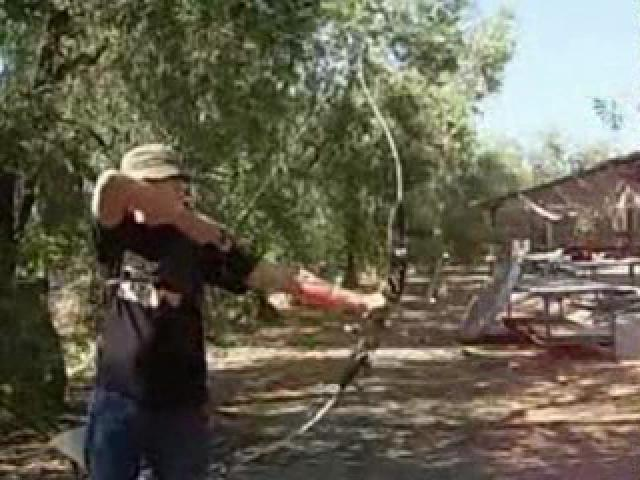I: (62, 123, 396, 480)
